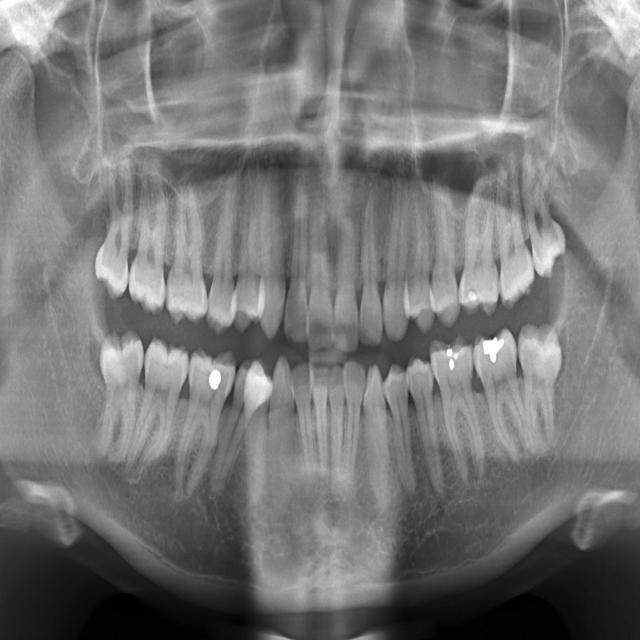AmalgamRestoration: (483, 333, 505, 368), (206, 366, 224, 392), (447, 346, 455, 381)
CompositeResinRestoration: (466, 282, 479, 306)
